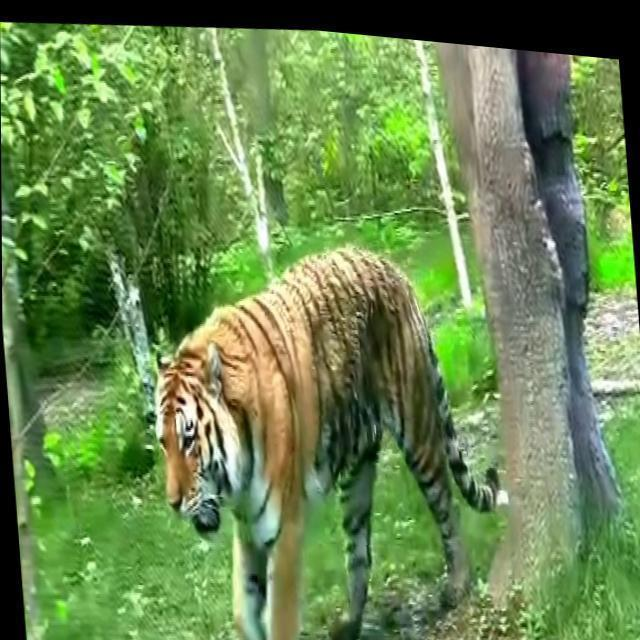tiger: (153, 243, 501, 639)
